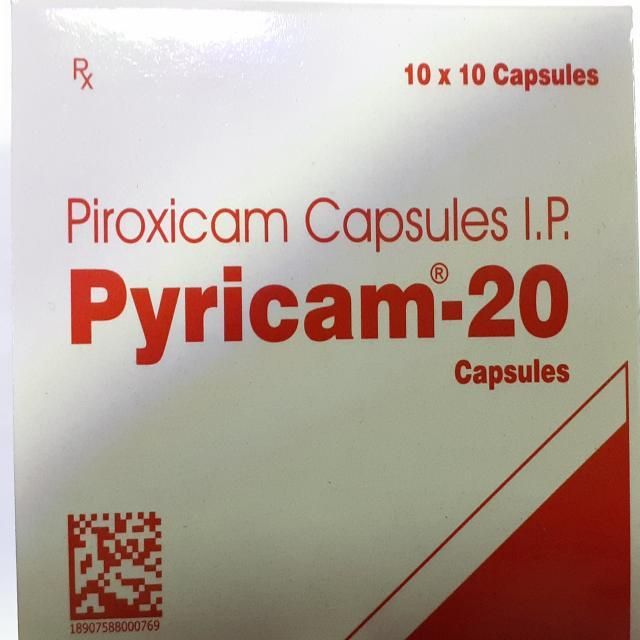drug-name: (65, 262, 587, 364)
